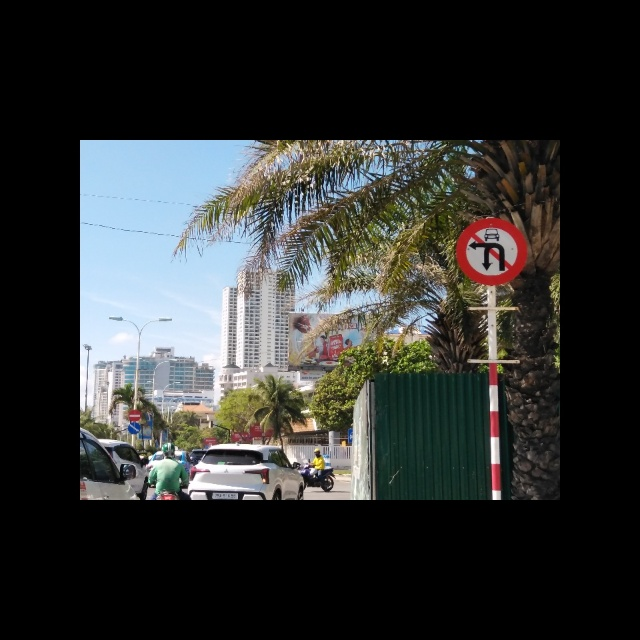Cấm xe ô tô quay đầu và rẽ trái: (455, 217, 529, 285)
